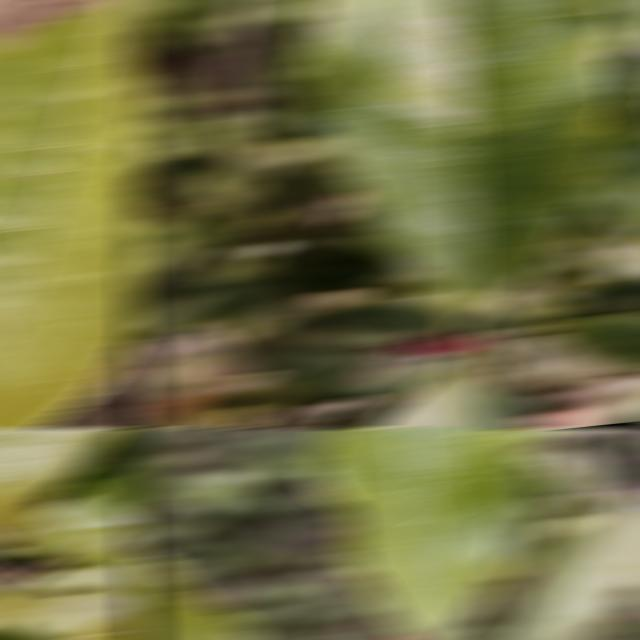Leaf: (297, 0, 623, 334), (0, 0, 142, 428), (308, 428, 529, 640), (223, 297, 459, 397), (489, 493, 640, 640), (0, 428, 124, 540), (133, 552, 262, 640), (0, 565, 142, 640), (364, 355, 504, 428), (15, 495, 142, 566), (571, 127, 640, 236), (256, 243, 401, 292), (540, 310, 640, 369), (568, 271, 640, 315), (603, 47, 640, 131), (461, 308, 521, 338)
